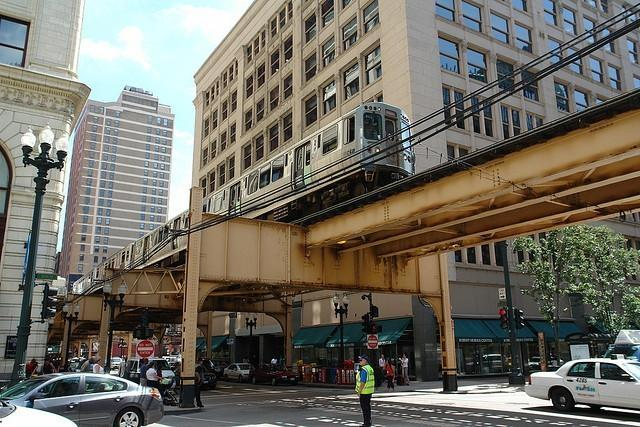car: (4, 366, 167, 422), (523, 353, 640, 415), (2, 400, 83, 426), (126, 357, 176, 390), (248, 363, 300, 387), (467, 354, 509, 372), (196, 357, 221, 380), (222, 363, 255, 377), (110, 356, 122, 370), (528, 356, 540, 369), (82, 360, 90, 369)
